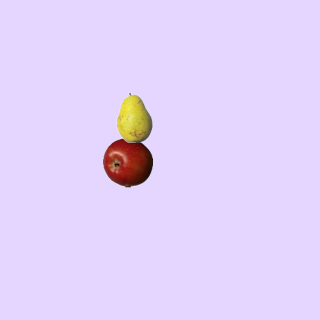Apple Braeburn: (102, 137, 152, 187)
Pear Monster: (109, 92, 159, 142)
